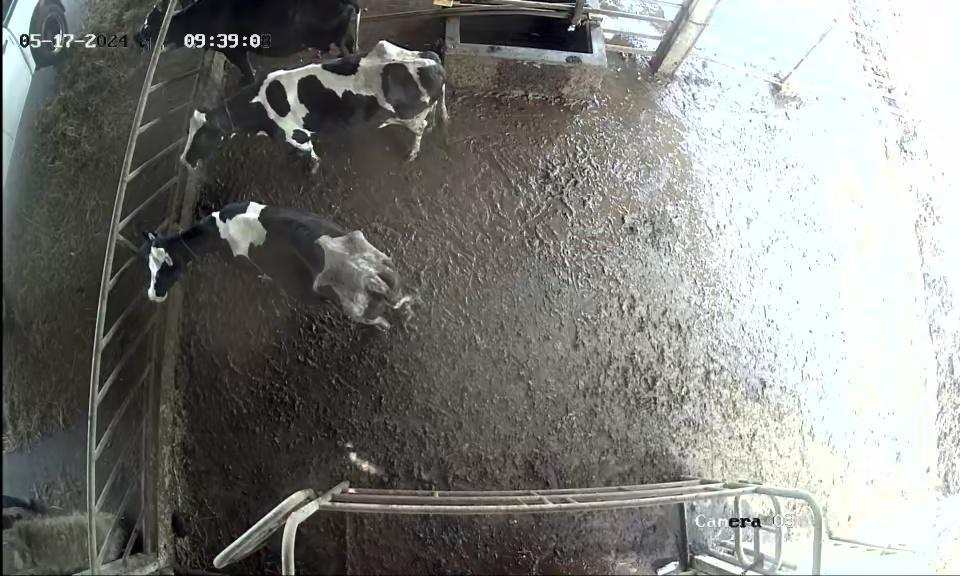eat: (108, 2, 232, 72)
stand: (162, 38, 463, 196), (140, 205, 422, 350)
